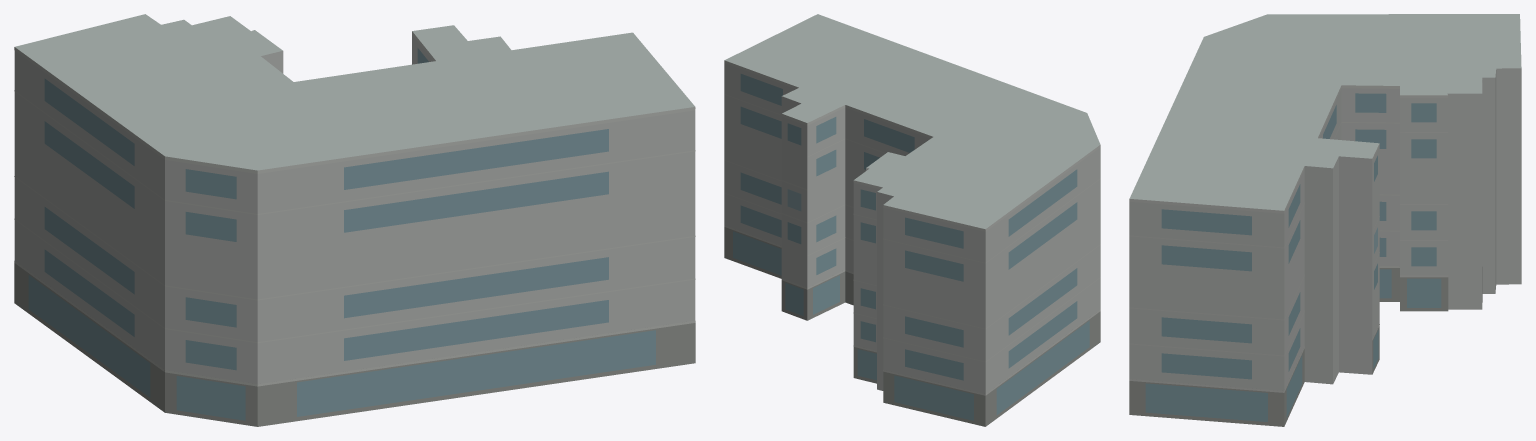
Rendered from survey-upis-32644354.glb.
3 renders of one model, left to right at view 1: azimuth 30°, elevation 25°; view 2: azimuth 150°, elevation 25°; view 3: azimuth 270°, elevation 25°, orthographic. The views are drawn at different scales.
Visible parts, largest first — view 1: survey-upis-32644354.tmp; view 2: survey-upis-32644354.tmp; view 3: survey-upis-32644354.tmp.
Part boxes in pixels (x1=…): survey-upis-32644354.tmp: x1=14, y1=14, x2=695, y2=426; survey-upis-32644354.tmp: x1=724, y1=14, x2=1100, y2=426; survey-upis-32644354.tmp: x1=1129, y1=14, x2=1521, y2=426.
Size of the model in its own units: 34.99 by 17.9 by 29.46.
